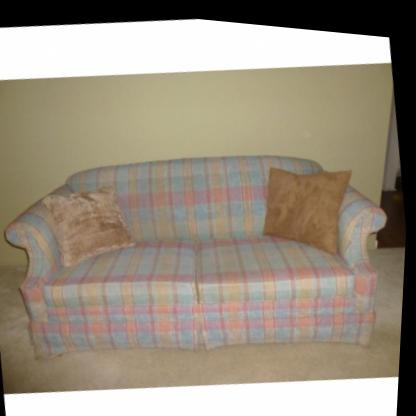Sofa: (0, 112, 408, 392)
